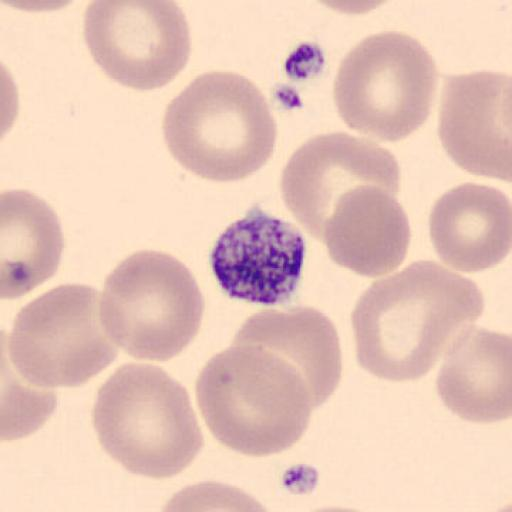Platelet: (206, 205, 310, 307)
RBC: (349, 257, 486, 383), (278, 129, 405, 243), (192, 343, 314, 460), (90, 360, 206, 481), (160, 68, 278, 184), (98, 246, 206, 363), (332, 28, 440, 143), (229, 304, 344, 411), (7, 282, 121, 388), (82, 0, 192, 93), (322, 184, 413, 280), (438, 67, 512, 181), (426, 179, 512, 274), (435, 325, 512, 425), (2, 187, 66, 301), (0, 328, 61, 444), (153, 476, 281, 512), (2, 363, 59, 442), (302, 0, 403, 17), (2, 58, 22, 140), (1, 0, 89, 14), (284, 503, 388, 512)
